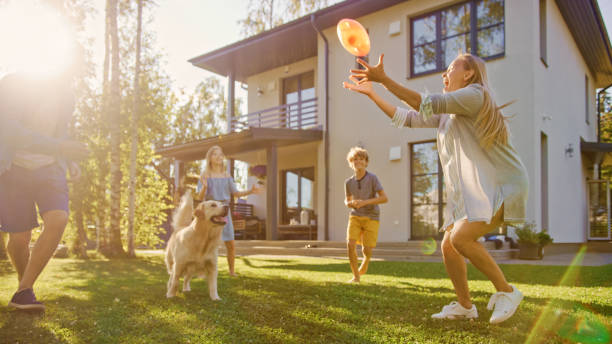without mask: (440, 49, 481, 90), (204, 145, 230, 172), (344, 153, 370, 180)
